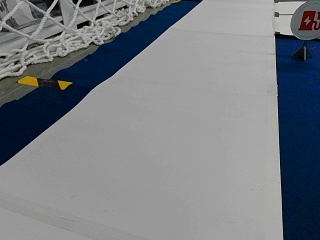battery: (290, 0, 319, 40)
